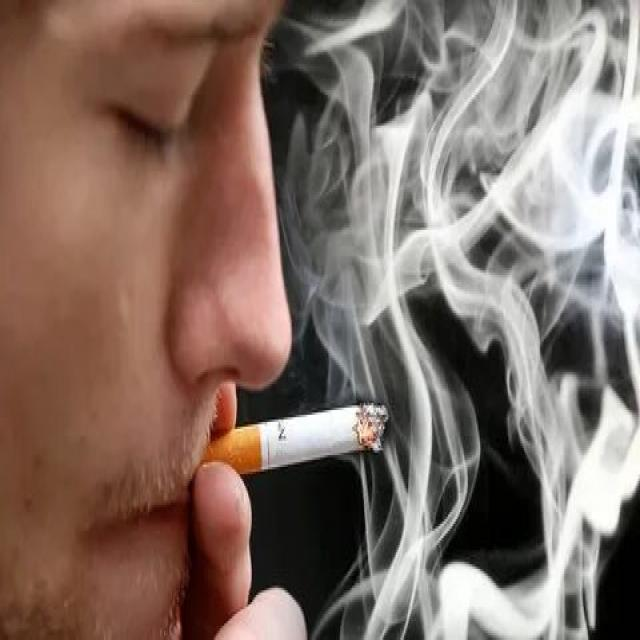smoke: (201, 396, 391, 486)
